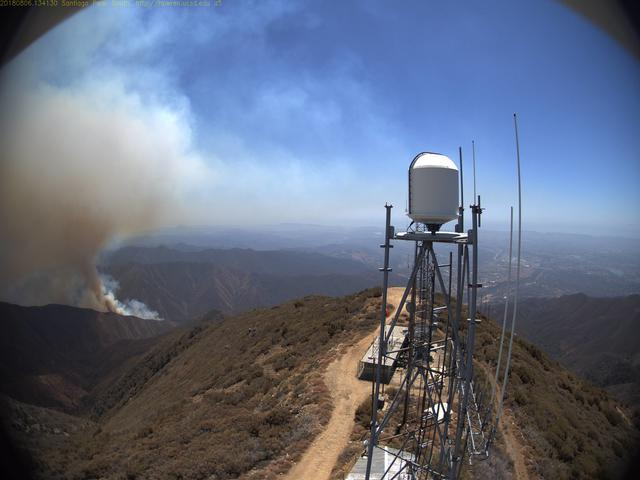smoke: (3, 71, 169, 324)
